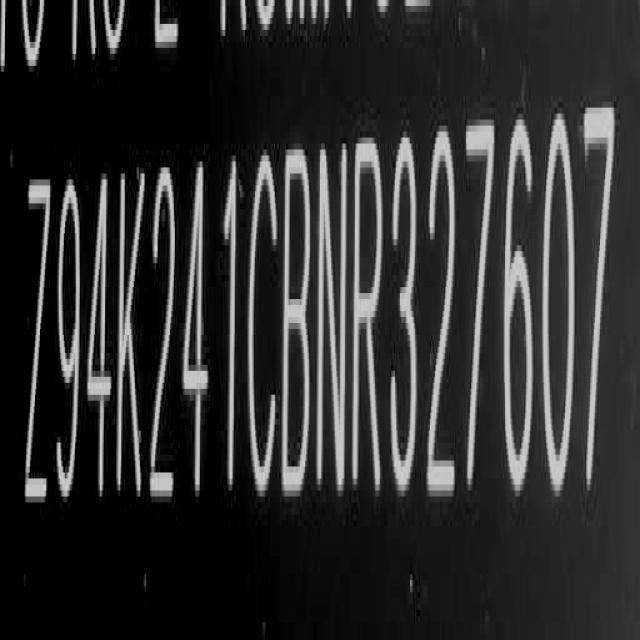0: (542, 112, 577, 510)
1: (220, 155, 246, 503)
2: (428, 123, 460, 507), (149, 161, 178, 514)
3: (392, 129, 423, 507)
4: (184, 156, 214, 514), (87, 169, 116, 511)
6: (503, 114, 536, 504)
7: (586, 97, 621, 499), (463, 112, 497, 502)
9: (52, 175, 80, 518)
B: (284, 139, 316, 503)
C: (248, 150, 280, 508)
K: (118, 163, 148, 512)
N: (318, 139, 349, 506)
R: (352, 135, 386, 504)
Z: (22, 172, 50, 526)
